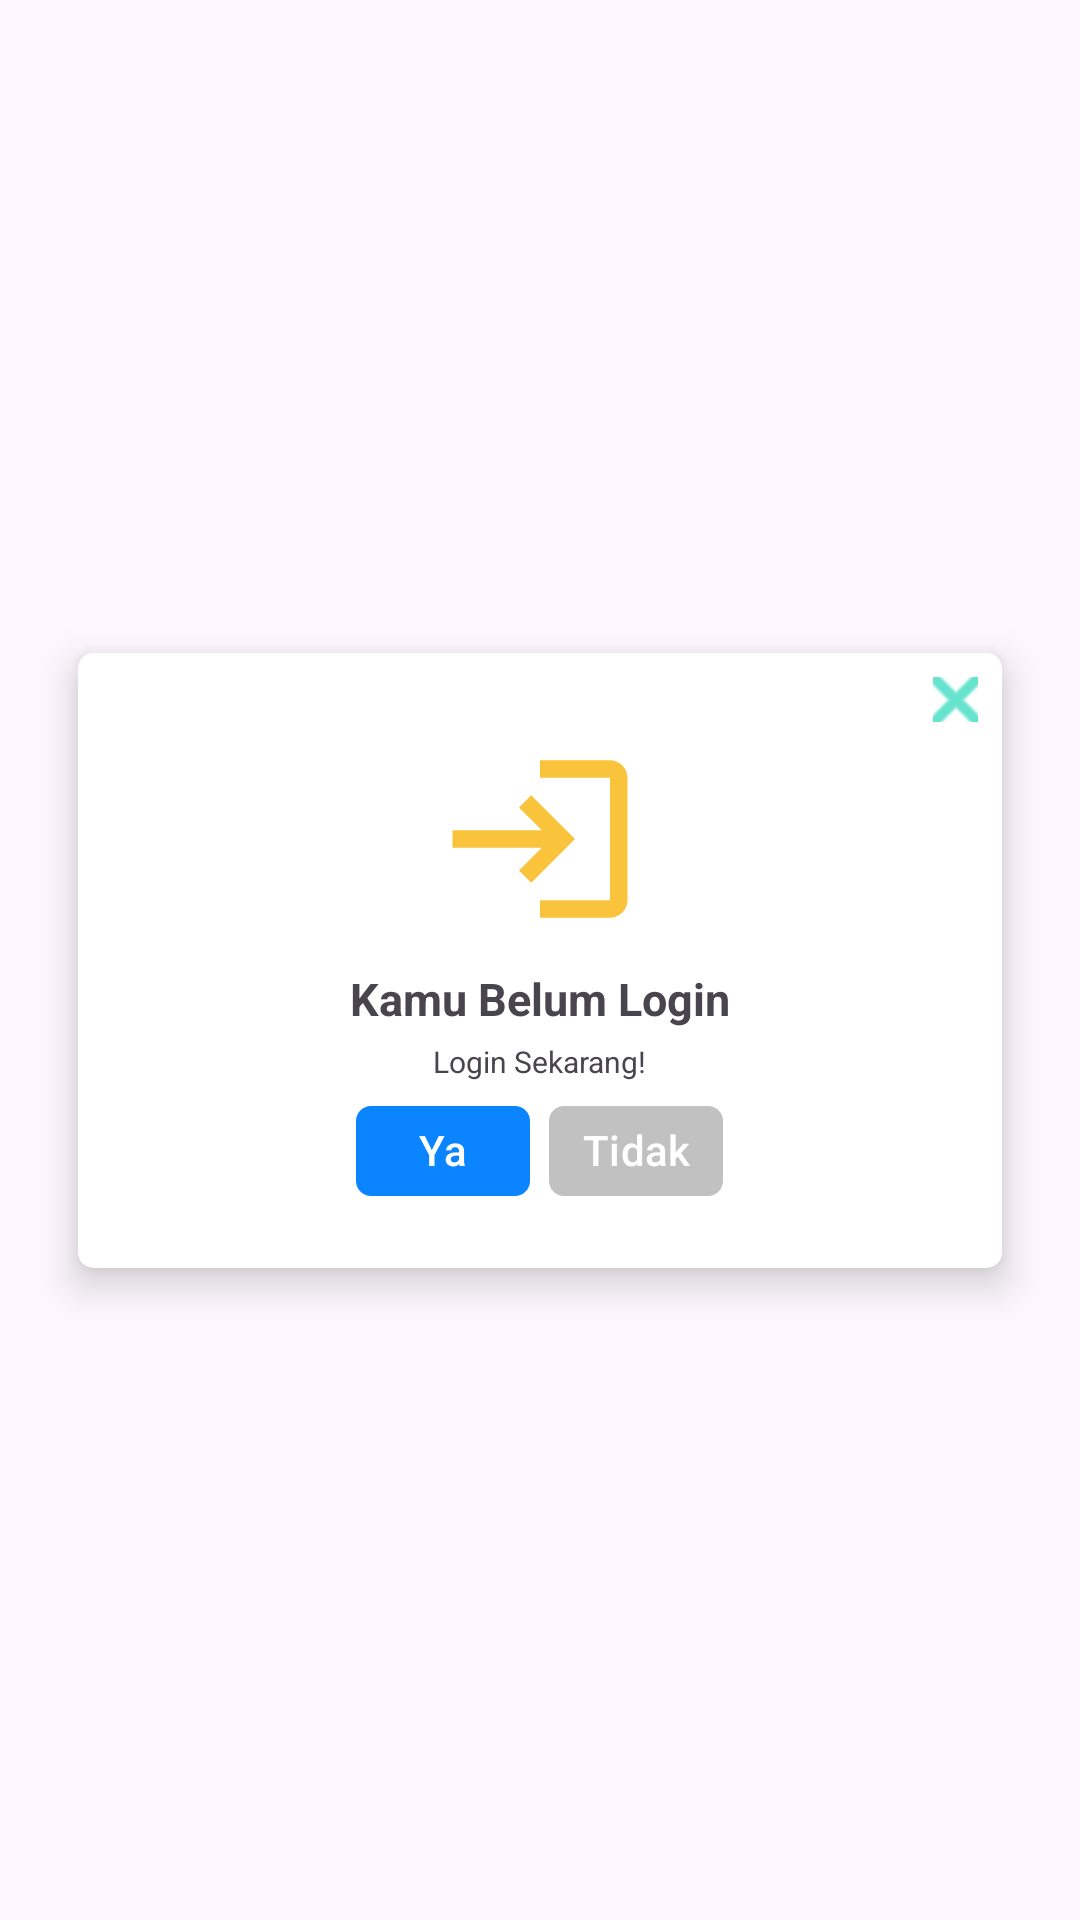

Icon click points for this 1080 × 1920 phone screenshot, format [x,y]:
close clear cancel: [955,699]
